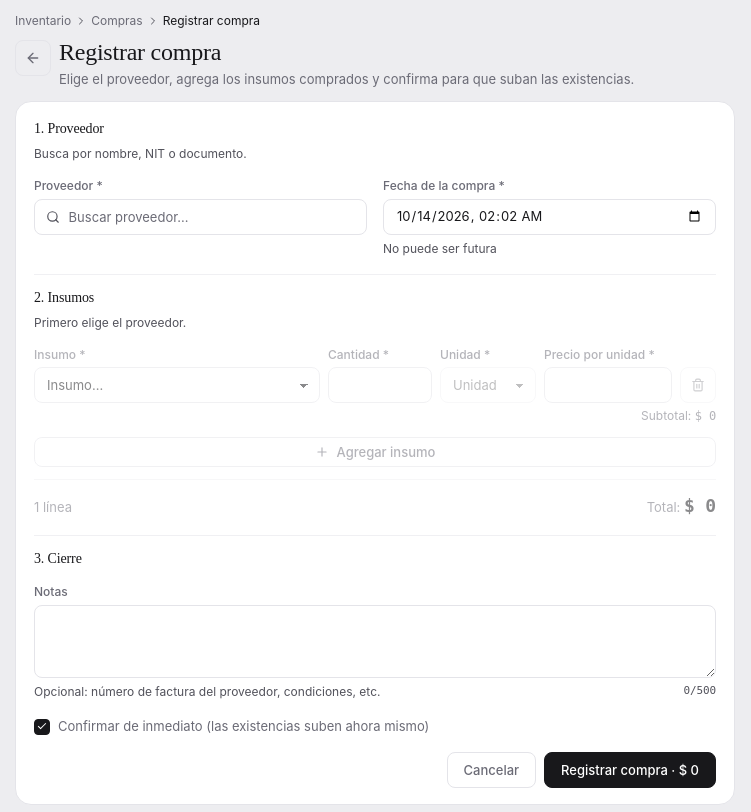
Test: Registrar compra de insumos — proveedor primero › sin proveedor no deja enviar
What coordinates should you click on to do the following:
click the button "Registrar compra · $ 0"
I would click on:
 (630, 770)
Its box is [544,752,716,788].
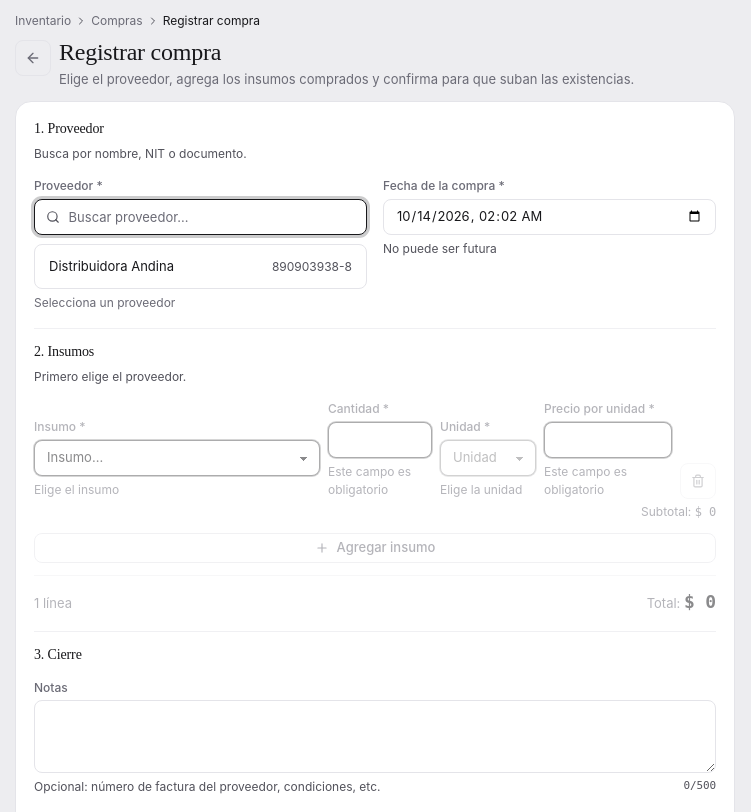
Result: the text "Selecciona un proveedor" is shown at [34,295,175,310]
